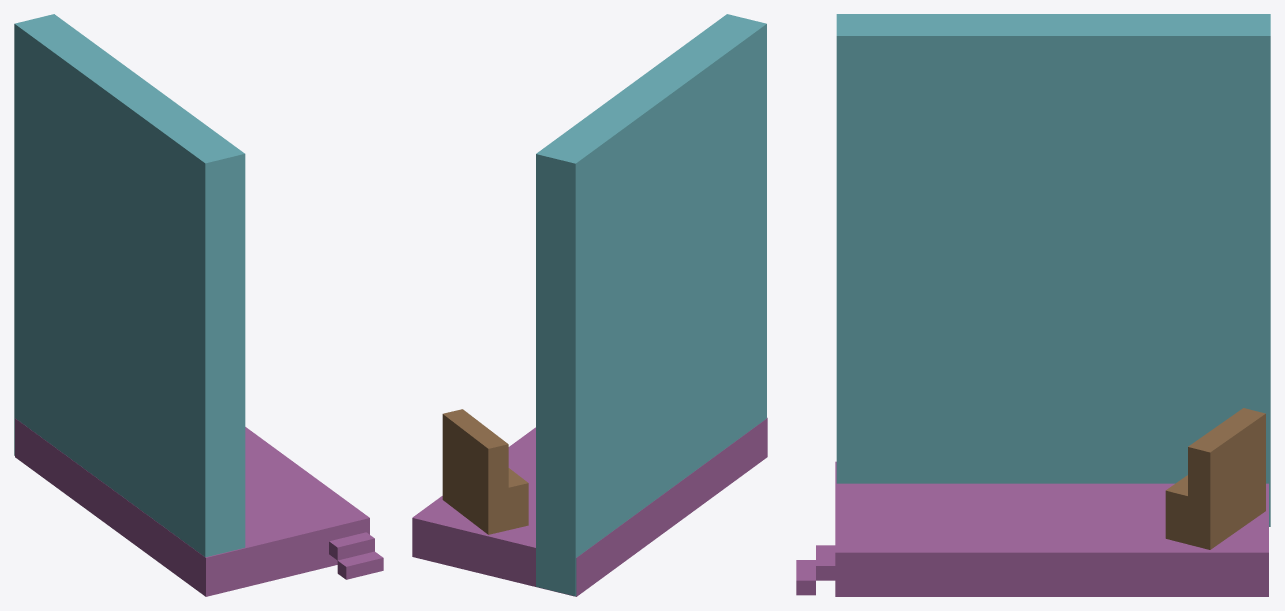
File: scene_art_pregraph.fbx
3 renders of one model, left to right at view 1: azimuth 30°, elevation 25°; view 2: azimuth 150°, elevation 25°; view 3: azimuth 270°, elevation 25°, orthographic. The views are drawn at different scales.
Visible parts, largest first — view 1: scene_art_pregraph; view 2: scene_art_pregraph; view 3: scene_art_pregraph.
Part boxes in pixels (x1,y1,x2,y2): scene_art_pregraph: [14, 14, 383, 596]; scene_art_pregraph: [412, 14, 767, 596]; scene_art_pregraph: [796, 14, 1270, 596].
Size of the model in its own units: 66 by 167 by 145.
